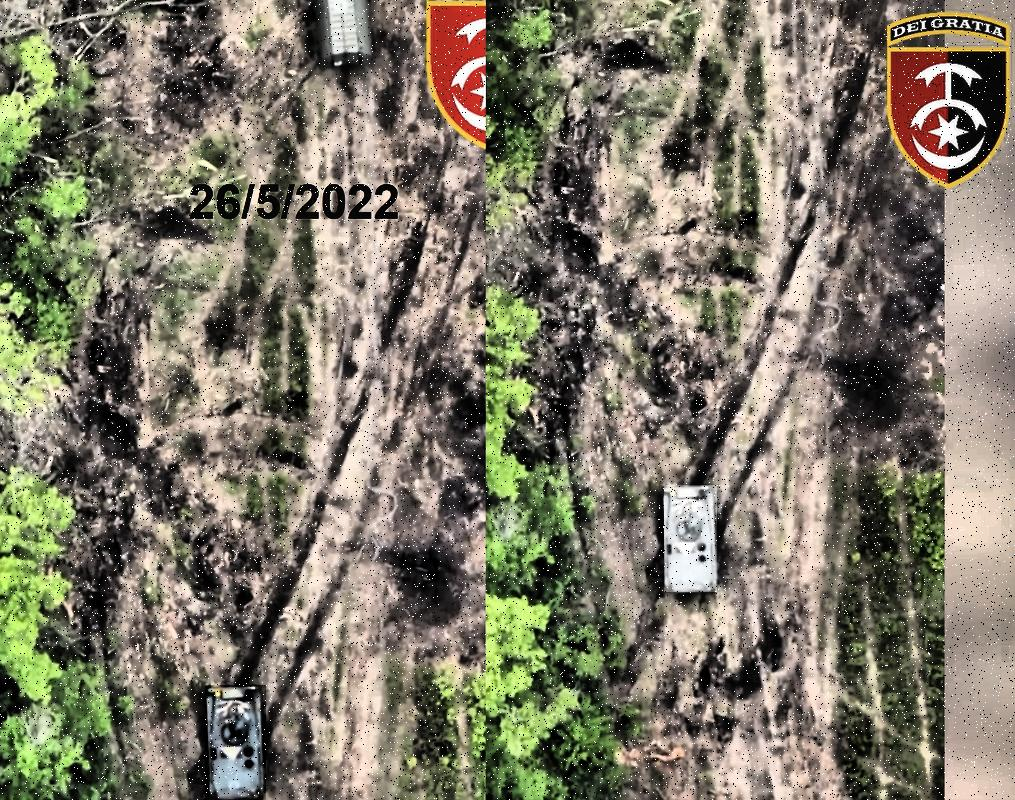military-vehicle: (205, 685, 266, 800), (665, 485, 718, 592)
